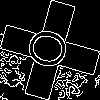O: (25, 25, 79, 75)
